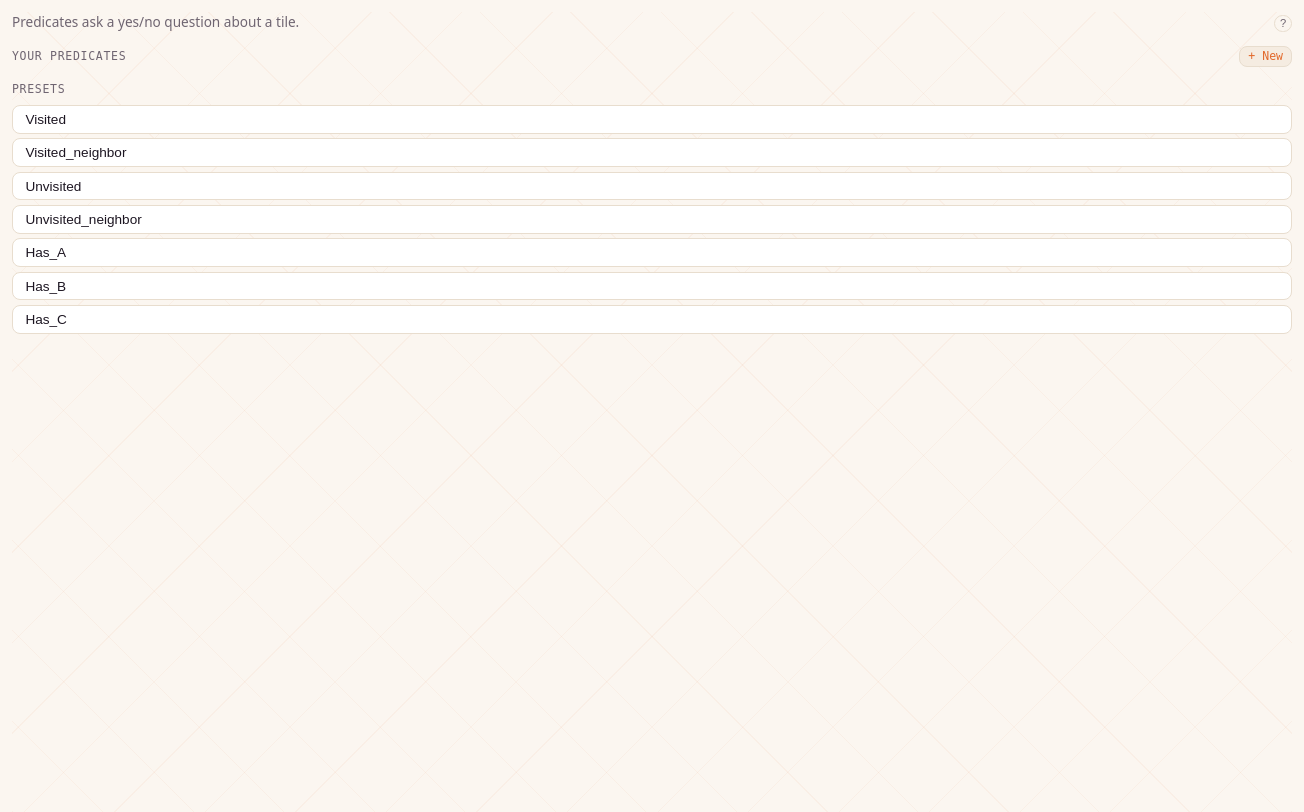
Test: PredicatePane › expands a bundled predicate to reveal its DSL
The image size is (1304, 812).
Click the button "Visited": (46, 119) [19,111,1285,128]
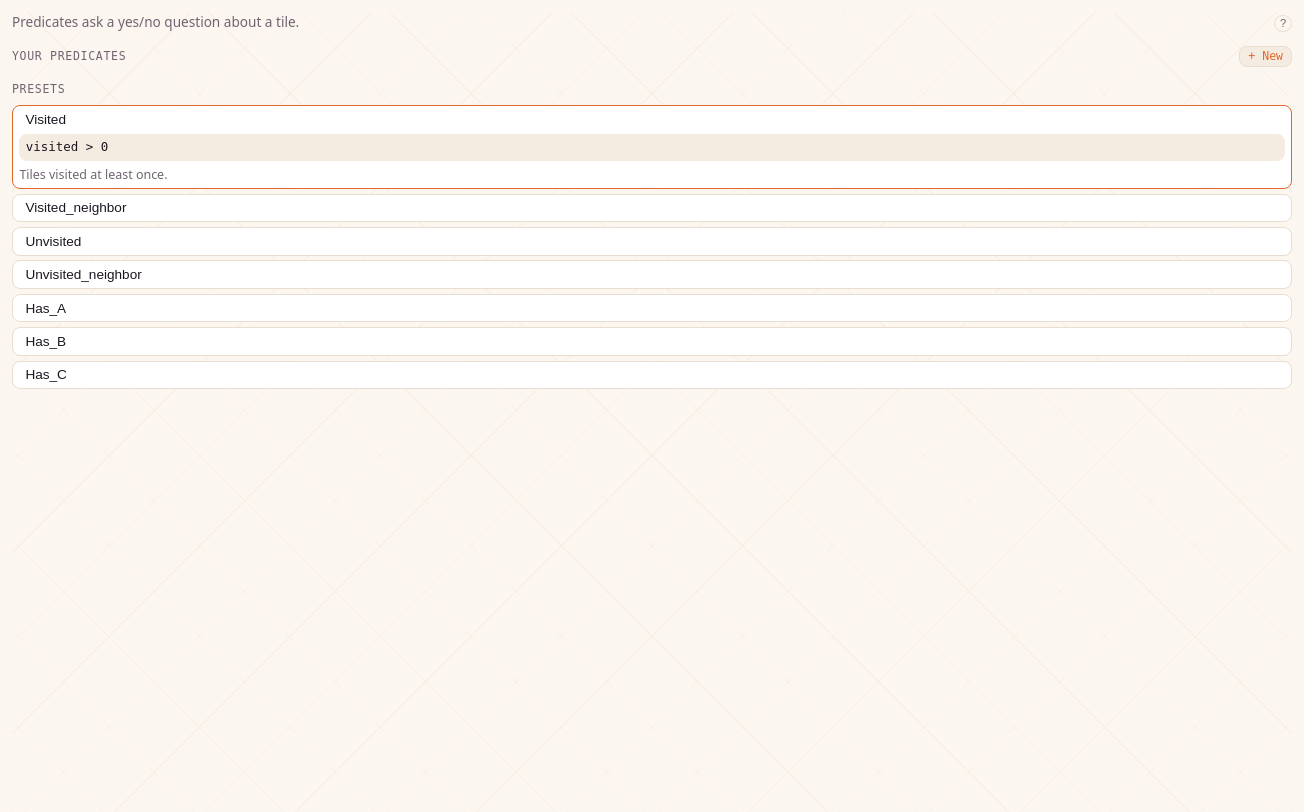
Now the text "visited > 0" is shown, box [19,134,1285,161]
